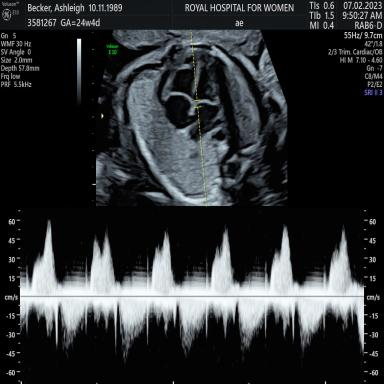Ultrasound-Waves: (26, 213, 362, 384)
